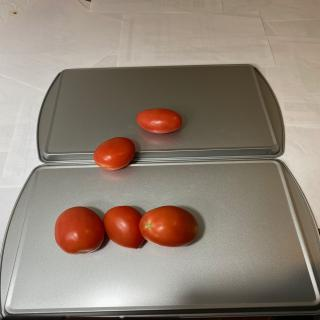Tomato: (138, 205, 198, 247), (54, 206, 105, 254), (103, 205, 145, 249), (93, 137, 136, 170), (136, 108, 182, 134)
